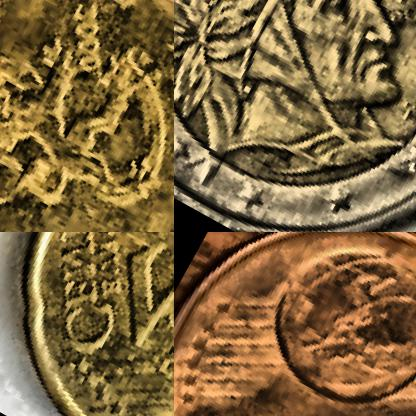coin: (174, 0, 415, 231), (174, 232, 415, 415), (0, 0, 173, 231), (0, 232, 173, 415)
